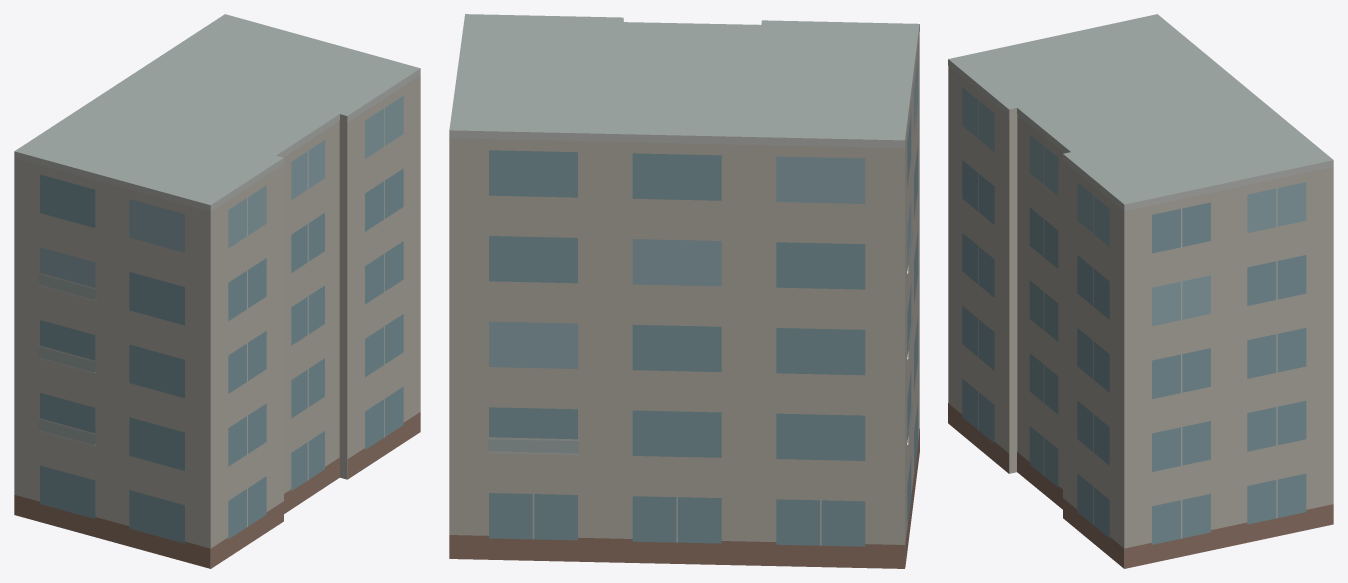
Rendered from survey-upis-32863837.glb.
The picture shows the model from 3 angles, left to right: view 1: azimuth 30°, elevation 25°; view 2: azimuth 150°, elevation 25°; view 3: azimuth 270°, elevation 25°; orthographic projection. The views are drawn at different scales.
Visible parts, largest first — view 1: survey-upis-32863837.tmp; view 2: survey-upis-32863837.tmp; view 3: survey-upis-32863837.tmp.
Boxes of the visible parts, left/top/right/bottom form: survey-upis-32863837.tmp: left=14, top=14, right=420, bottom=568; survey-upis-32863837.tmp: left=449, top=14, right=919, bottom=568; survey-upis-32863837.tmp: left=948, top=14, right=1333, bottom=568.
Size of the model in its own units: 15.05 by 13.4 by 12.86.
